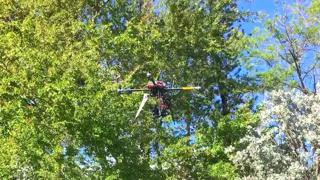UAV: (118, 73, 201, 125)
